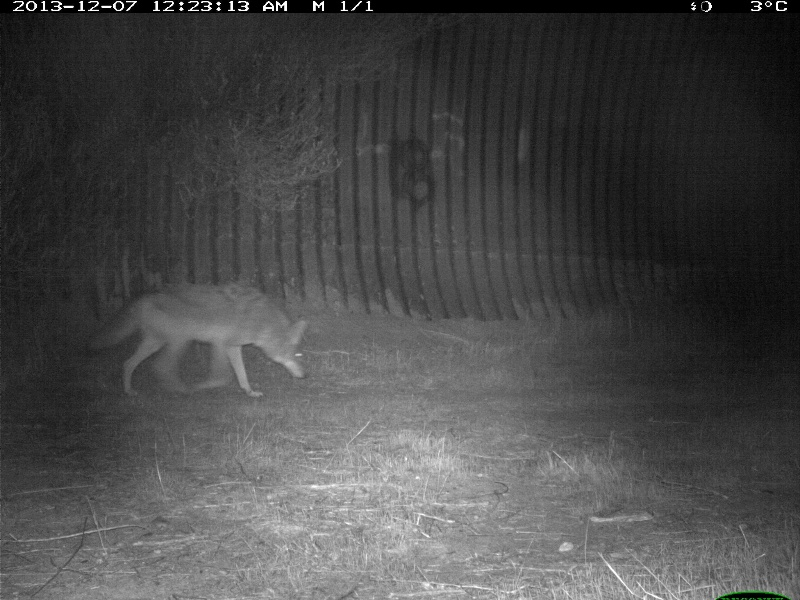coyote: (91, 274, 310, 405)
